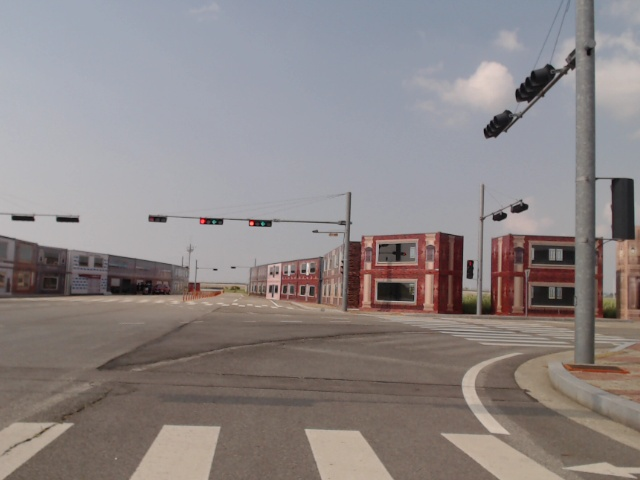left_green_4: (250, 220, 272, 226), (200, 219, 223, 224)
